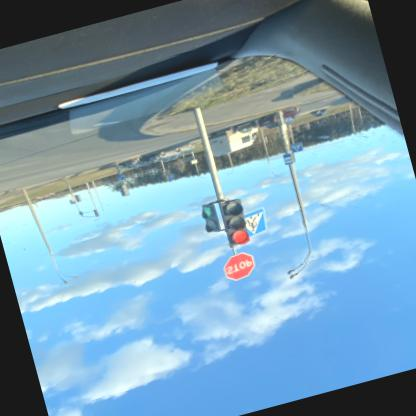crosswalk: (239, 207, 267, 238), (288, 141, 304, 153), (165, 173, 173, 182)
trafficlight: (216, 199, 251, 250), (198, 204, 220, 235), (110, 181, 129, 201), (91, 210, 99, 219), (73, 196, 80, 204)
